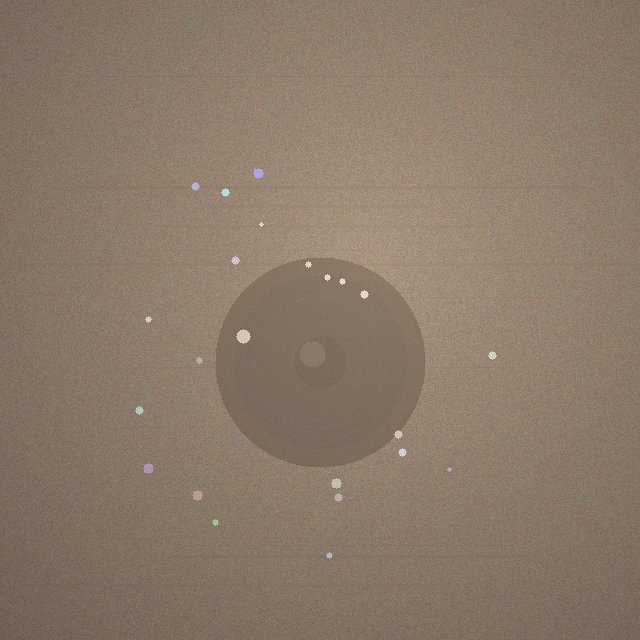overburn: (215, 257, 425, 467)
